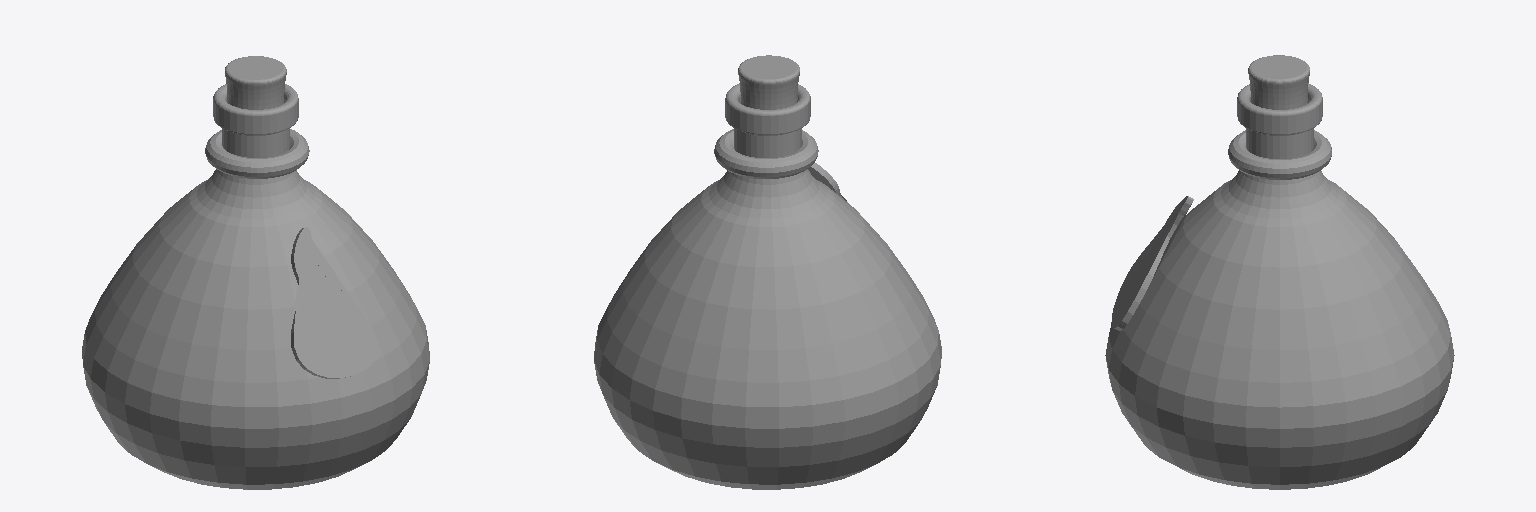
Rendered from Mana_Potion.obj.
3 views of the same model, side by side, from view 1: azimuth 30°, elevation 25°; view 2: azimuth 150°, elevation 25°; view 3: azimuth 270°, elevation 25° (orthographic).
Parts seen in each view (by area): view 1: bottle_Sphere, drop_Cylinder.001, cork_Cylinder, Torus; view 2: bottle_Sphere, cork_Cylinder, Torus; view 3: bottle_Sphere, cork_Cylinder, drop_Cylinder.001, Torus.
Part boxes in pixels (left/top/right/bottom): bottle_Sphere: left=82, top=84, right=429, bottom=489; drop_Cylinder.001: left=291, top=227, right=376, bottom=378; cork_Cylinder: left=225, top=56, right=286, bottom=109; Torus: left=205, top=129, right=309, bottom=178; bottle_Sphere: left=594, top=83, right=941, bottom=489; cork_Cylinder: left=738, top=55, right=799, bottom=109; Torus: left=714, top=129, right=818, bottom=178; bottle_Sphere: left=1105, top=83, right=1454, bottom=489; cork_Cylinder: left=1248, top=55, right=1309, bottom=109; drop_Cylinder.001: left=1111, top=196, right=1193, bottom=330; Torus: left=1228, top=130, right=1331, bottom=179.
Size of the model in its own units: 2 by 2.38 by 2.